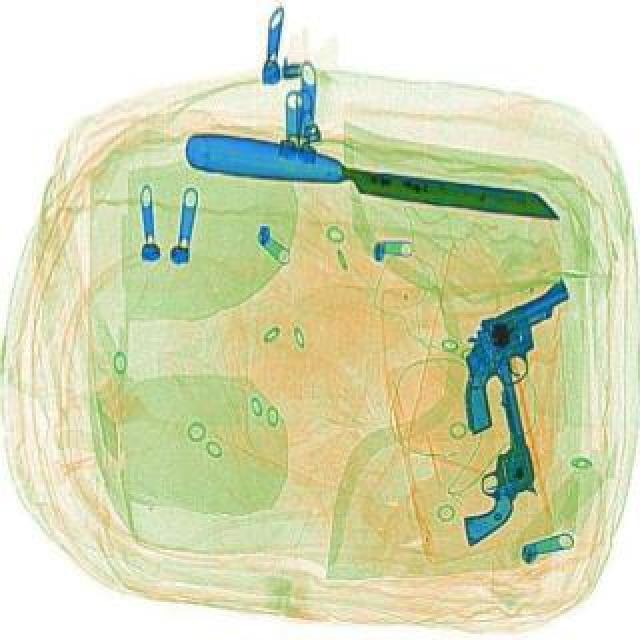gun: (414, 254, 598, 442), (426, 312, 546, 544)
knife: (178, 124, 564, 228)
